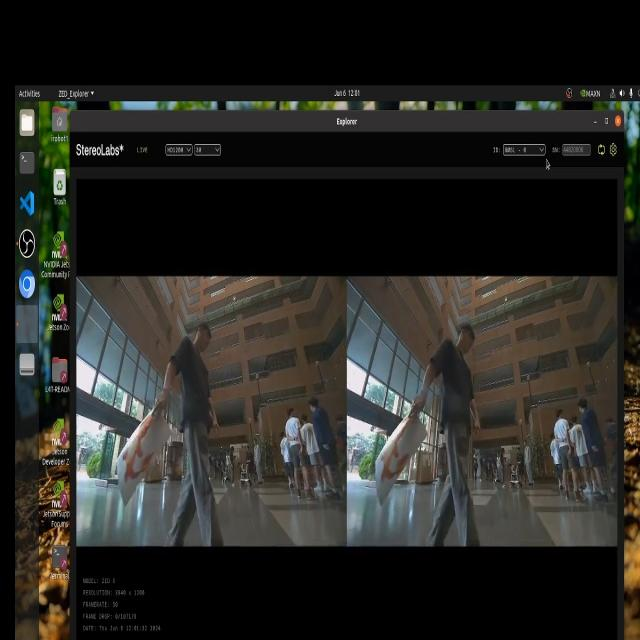red: (121, 412, 158, 476), (373, 418, 407, 486)
